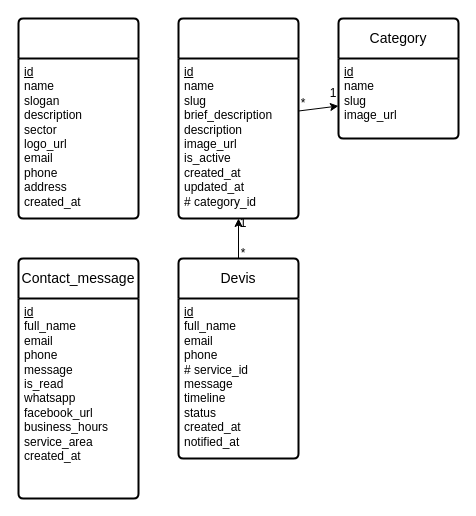
Some shapes in this 476 by 516 pixel diagram are drawn without their labels. Here are the shapes that lost their labels. From the top down, the box of each, then its label:
(17, 17, 139, 219): Company
(177, 17, 299, 219): Service
